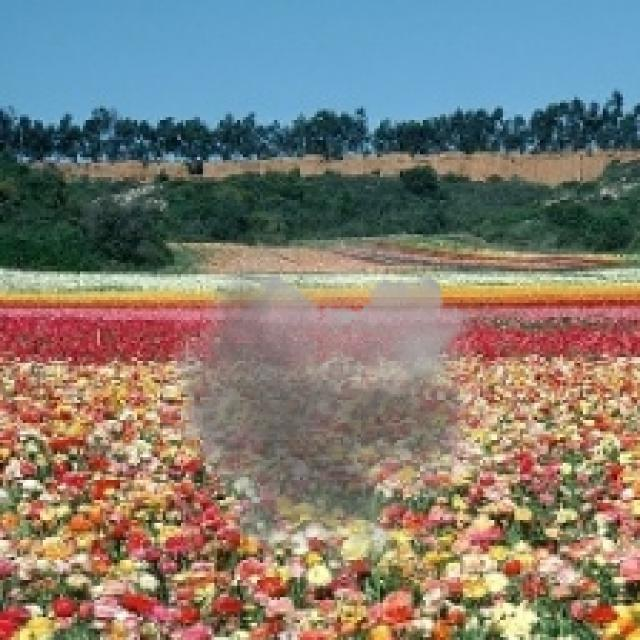Smoke: (152, 195, 494, 594)
